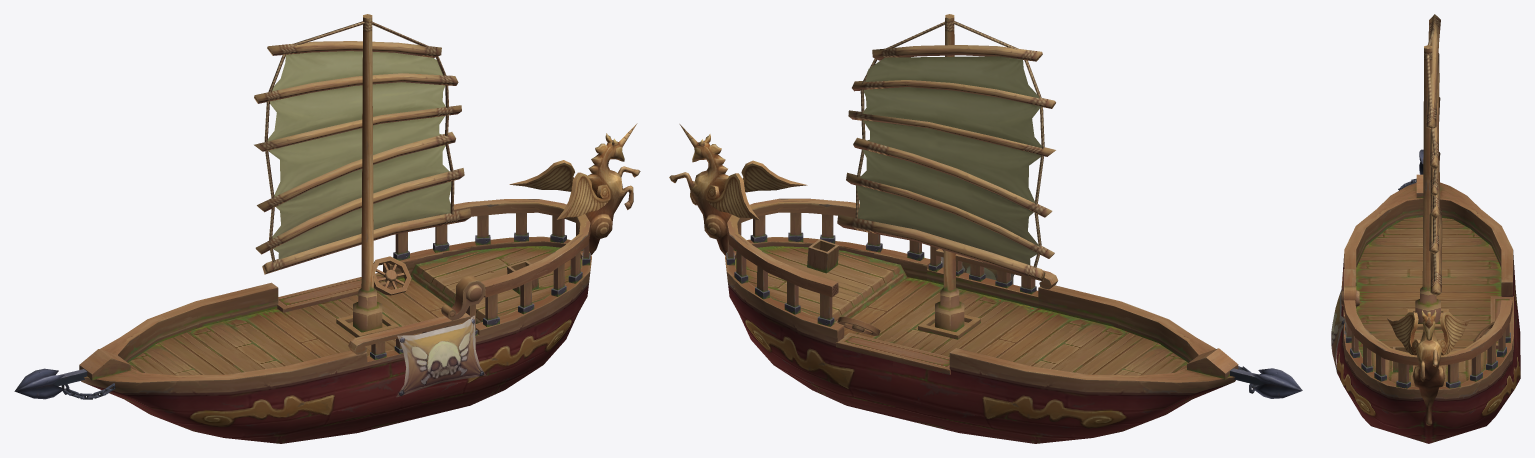
File: scene_lawennushandao_chuan01.FBX
The picture shows the model from 3 angles, left to right: view 1: azimuth 30°, elevation 25°; view 2: azimuth 150°, elevation 25°; view 3: azimuth 270°, elevation 25°; orthographic projection. The views are drawn at different scales.
Parts seen in each view (by area): view 1: scene_lawennushandao_chuan01; view 2: scene_lawennushandao_chuan01; view 3: scene_lawennushandao_chuan01.
Boxes of the visible parts, left/top/right/bottom form: scene_lawennushandao_chuan01: left=14, top=14, right=640, bottom=443; scene_lawennushandao_chuan01: left=669, top=14, right=1302, bottom=443; scene_lawennushandao_chuan01: left=1331, top=14, right=1520, bottom=443.
Size of the model in its own units: 987 by 600 by 292.
